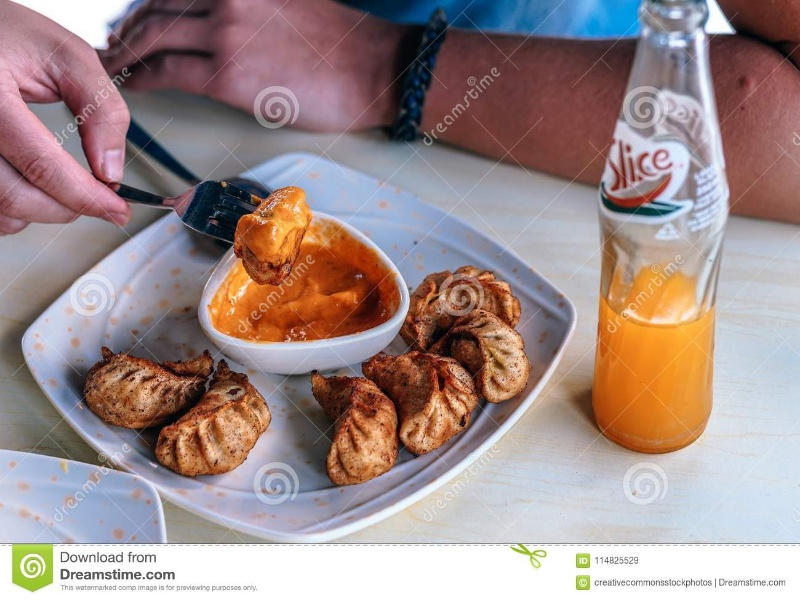Glass bottle: (578, 1, 754, 475)
